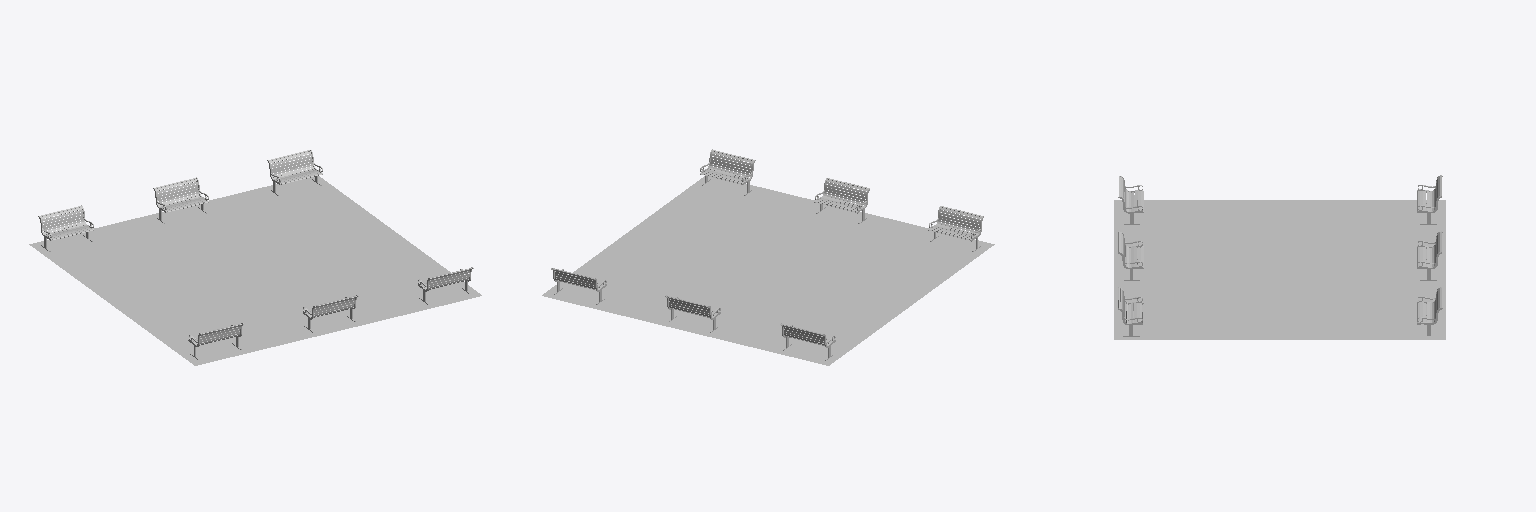
Rendered from skameiki.obj.
3 renders of one model, left to right at view 1: azimuth 30°, elevation 25°; view 2: azimuth 150°, elevation 25°; view 3: azimuth 270°, elevation 25°, orthographic.
Parts seen in each view (by area): view 1: Plane, Shape001_Mesh.002, Shape001.001_Mesh.005, Shape001.002_Mesh.008; view 2: Plane, Shape001.005_Mesh.017, Shape001.004_Mesh.014, Shape001.003_Mesh.011; view 3: Plane.
Boxes of the visible parts, x1,y1,x2,y2 form: Plane: [29, 176, 481, 365]; Shape001_Mesh.002: [41, 206, 92, 239]; Shape001.001_Mesh.005: [155, 178, 207, 211]; Shape001.002_Mesh.008: [269, 150, 321, 184]; Plane: [542, 176, 994, 365]; Shape001.005_Mesh.017: [929, 206, 981, 239]; Shape001.004_Mesh.014: [816, 178, 867, 212]; Shape001.003_Mesh.011: [701, 150, 753, 184]; Plane: [1114, 200, 1445, 339].
Size of the model in its own units: 8.48 by 0.7981 by 8.48.